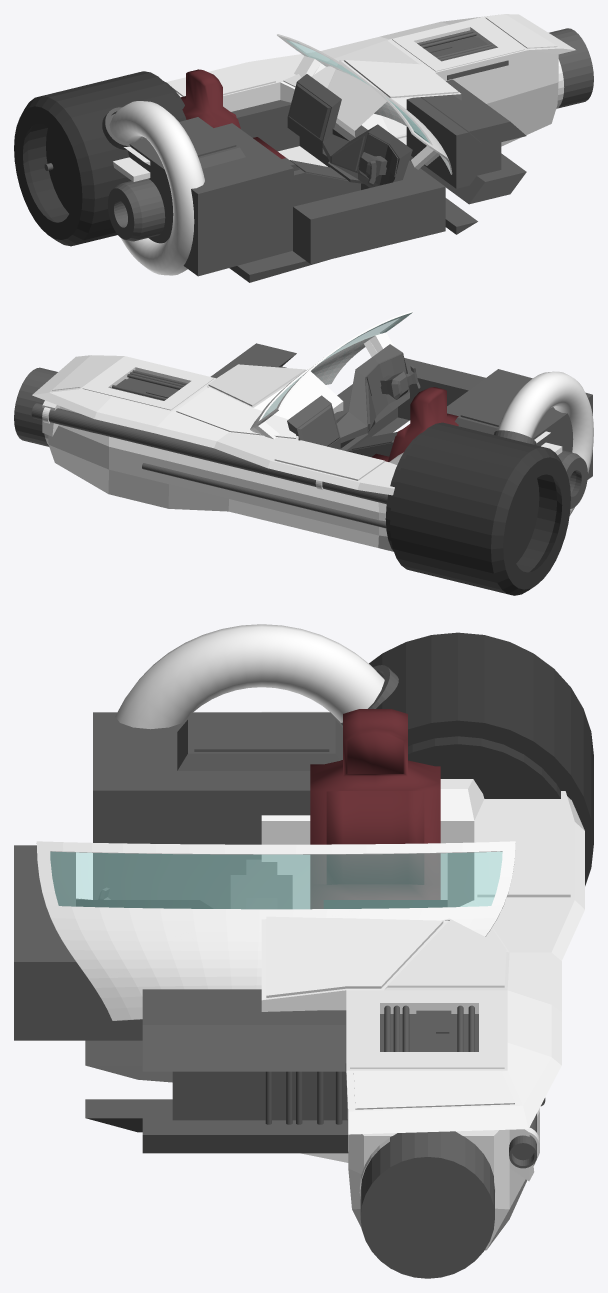
File: Speeder1.glb
3 views of the same model, one above another, from view 1: azimuth 30°, elevation 25°; view 2: azimuth 150°, elevation 25°; view 3: azimuth 270°, elevation 25° (orthographic). The views are drawn at different scales.
Parts seen in each view (by area): view 1: Speeder - Main Chassis, Speeder - Cockpit Controls, Speeder - Back Engines, Speeder - Back Body, Speeder - Engine Caliper, Speeder - Front Vent, Speeder - Back Booster, Speeder - Front Intake Top, Speeder - WindScreen Border, Speeder - Cockpit Seats, Speeder - Front Engines, Speeder - Front Intake Bot (+7 smaller); view 2: Speeder - Main Chassis, Speeder - Back Engines, Speeder - Cockpit Controls, Speeder - Engine Caliper, Speeder - Back Body, Speeder - Side Rails.005, Speeder - WindScreen Border, Speeder - Cockpit Seats, Speeder - Front Engines, Speeder - Side Decor Mid, Speeder - Front Intake Top, Speeder - Back Booster (+4 smaller); view 3: Speeder - Main Chassis, Speeder - Back Body, Speeder - Back Engines, Speeder - WindScreen Border, Speeder - WindScreen, Speeder - Cockpit Seats, Speeder - Cockpit Controls, Speeder - Front Engines, Speeder - Engine Caliper, Speeder - Front Intake Top, Speeder - Front Intake Bot, Speeder - Front Vent (+5 smaller).
Part boxes in pixels (<box>): Speeder - Main Chassis: <box>112,14,575,181</box>; Speeder - Cockpit Controls: <box>231,74,445,263</box>; Speeder - Back Engines: <box>14,71,186,246</box>; Speeder - Back Body: <box>128,117,293,276</box>; Speeder - Engine Caliper: <box>109,101,204,275</box>; Speeder - Front Vent: <box>406,97,501,188</box>; Speeder - Back Booster: <box>107,178,165,241</box>; Speeder - Front Intake Top: <box>420,79,526,145</box>; Speeder - WindScreen Border: <box>277,34,452,174</box>; Speeder - Cockpit Seats: <box>180,69,285,158</box>; Speeder - Front Engines: <box>549,28,593,108</box>; Speeder - Front Intake Bot: <box>409,153,526,204</box>; Speeder - Main Chassis: <box>32,355,562,551</box>; Speeder - Back Engines: <box>385,422,570,595</box>; Speeder - Cockpit Controls: <box>287,344,485,456</box>; Speeder - Engine Caliper: <box>497,371,593,515</box>; Speeder - Back Body: <box>447,369,592,479</box>; Speeder - Side Rails.005: <box>31,403,387,504</box>; Speeder - WindScreen Border: <box>250,311,412,439</box>; Speeder - Cockpit Seats: <box>371,387,458,461</box>; Speeder - Front Engines: <box>14,367,57,446</box>; Speeder - Side Decor Mid: <box>142,463,323,511</box>; Speeder - Front Intake Top: <box>210,343,296,378</box>; Speeder - Back Booster: <box>557,450,587,508</box>; Speeder - Main Chassis: <box>261,711,584,1250</box>; Speeder - Back Body: <box>93,712,342,908</box>; Speeder - Back Engines: <box>369,632,593,885</box>; Speeder - WindScreen Border: <box>36,841,515,1020</box>; Speeder - WindScreen: <box>50,852,502,908</box>; Speeder - Cockpit Seats: <box>310,709,440,909</box>; Speeder - Cockpit Controls: <box>14,845,474,1040</box>; Speeder - Front Engines: <box>360,1131,494,1278</box>; Speeder - Engine Caliper: <box>115,624,384,729</box>; Speeder - Front Intake Top: <box>142,989,345,1071</box>; Speeder - Front Intake Bot: <box>142,1099,348,1153</box>; Speeder - Front Vent: <box>172,1071,347,1120</box>.
Bounding box in the file's own units: 4.27 × 1.29 × 2.34.
